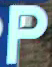Parking: (5, 1, 46, 64)
